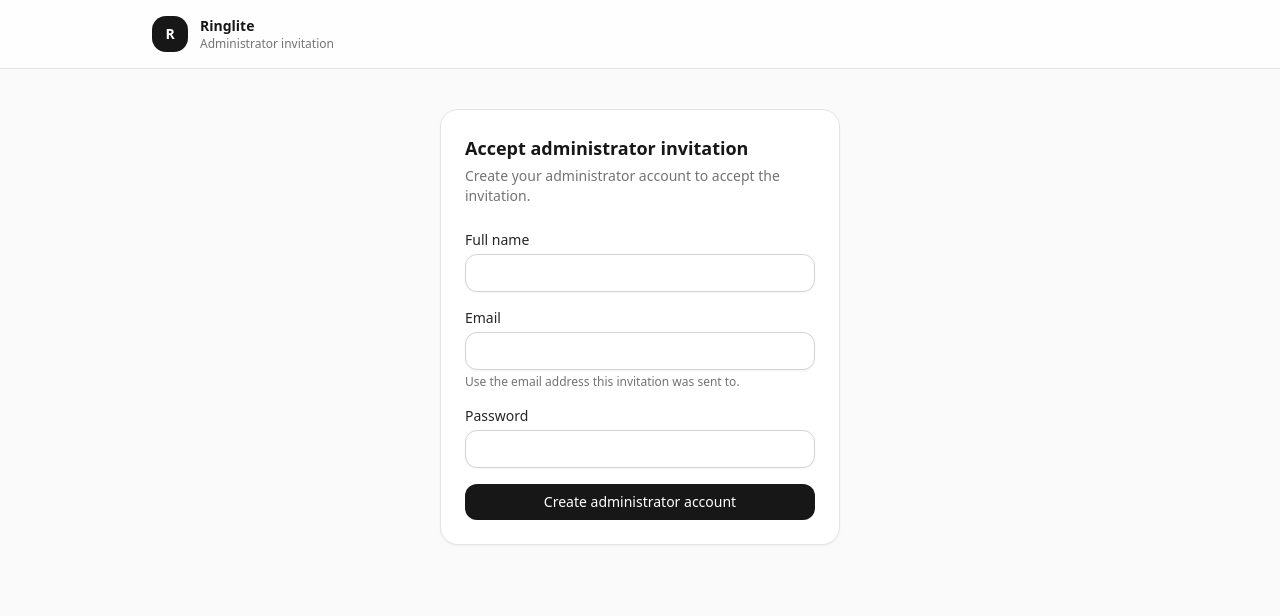
Scenario: AdminEntry signup invite handling › shows server error for invalid or expired invitation
This screenshot has width=1280, height=616.
Type "Invitee" into the field labelled "Full name".
click(640, 273); type("Invitee")  # box [465,254,815,292]
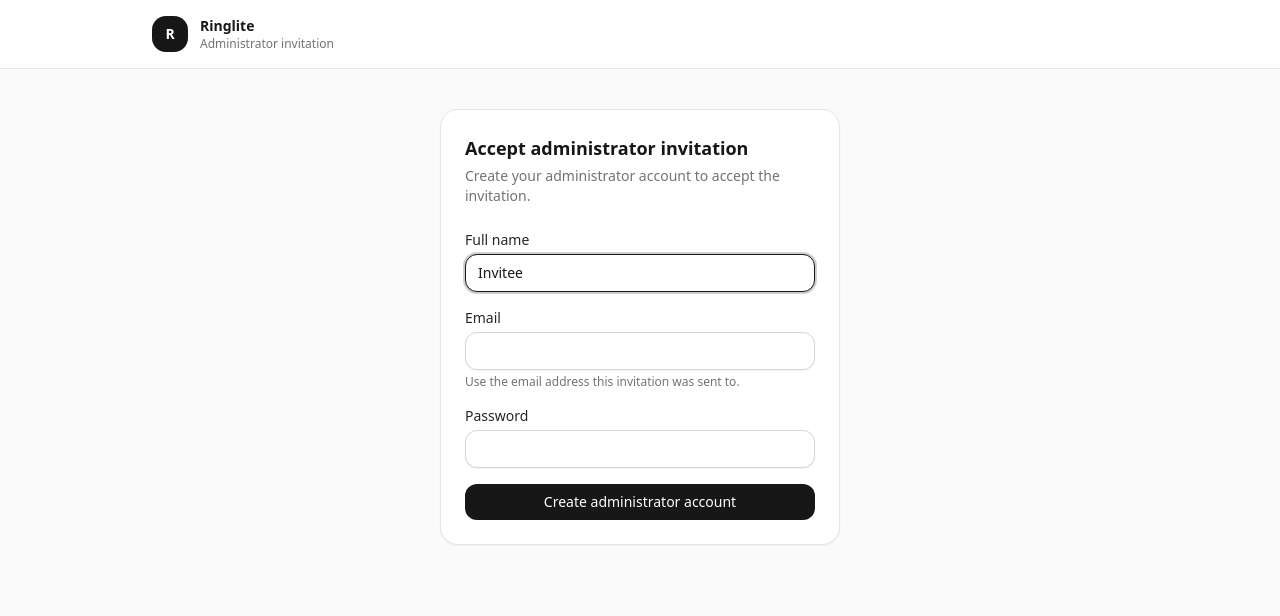
Type "invitee@example.com" into the field labelled "Email".
click(640, 351); type("invitee@example.com")  # box [465,332,815,370]
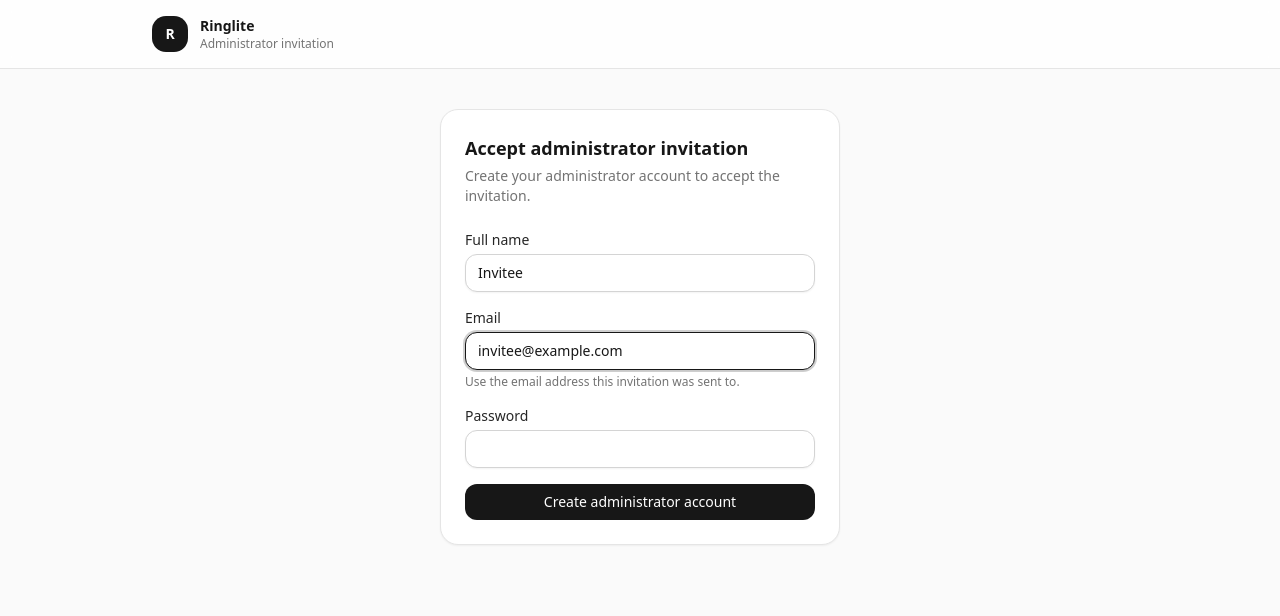
Type "hunter2hunter2" into the password field labelled "Password".
click(640, 449); type("hunter2hunter2")  # box [465,430,815,468]
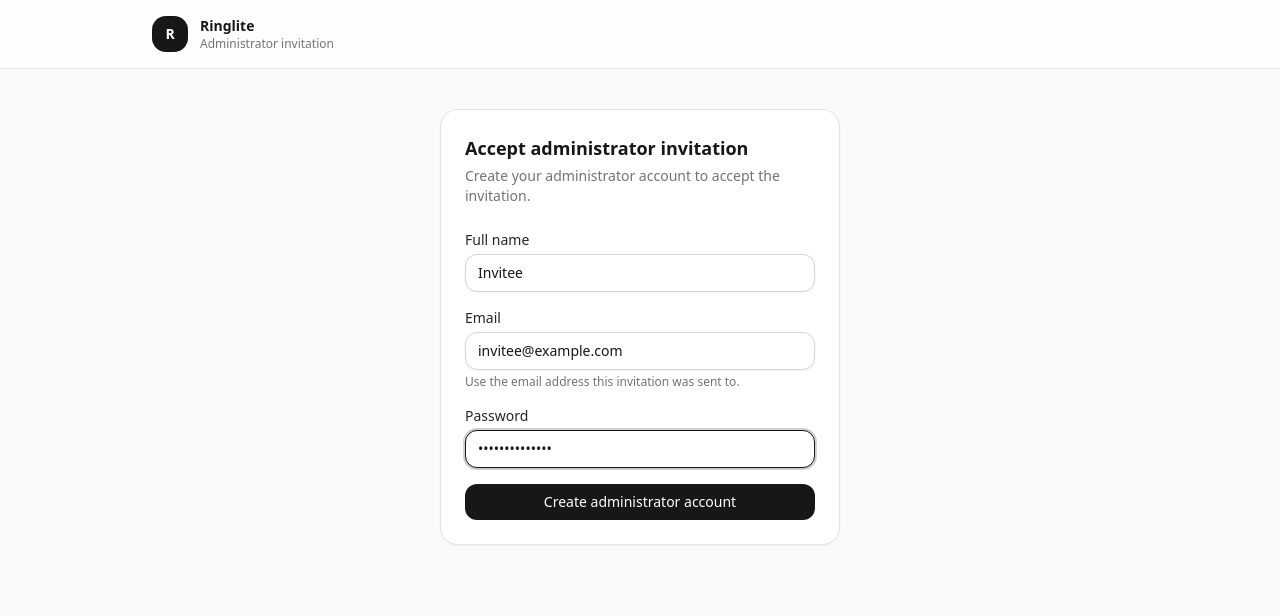
Click the button "Create administrator account".
click(640, 502)  # box [465,484,815,520]
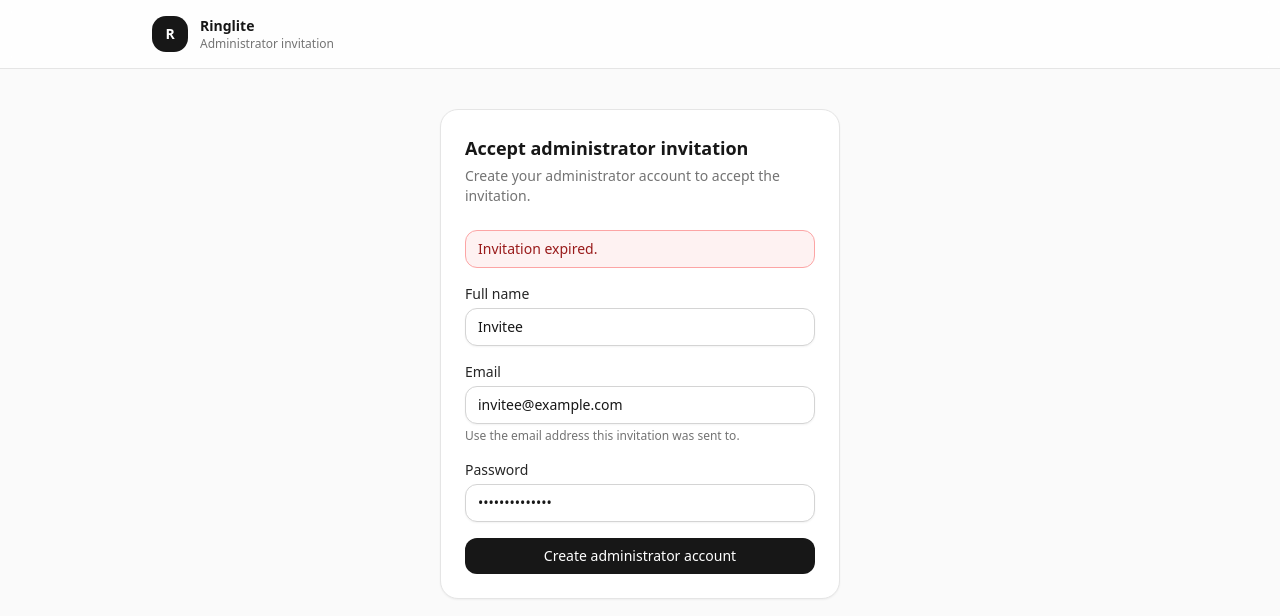
Expected: the message shows "Invitation expired", [478,239,598,258]
